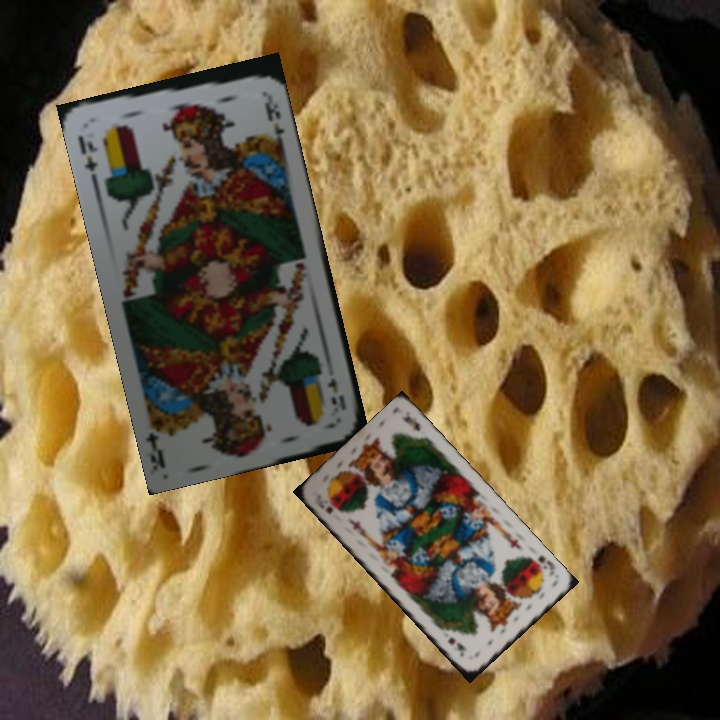EK: (73, 131, 101, 183), (324, 373, 349, 413)
SK: (524, 551, 558, 579), (312, 490, 336, 516)
